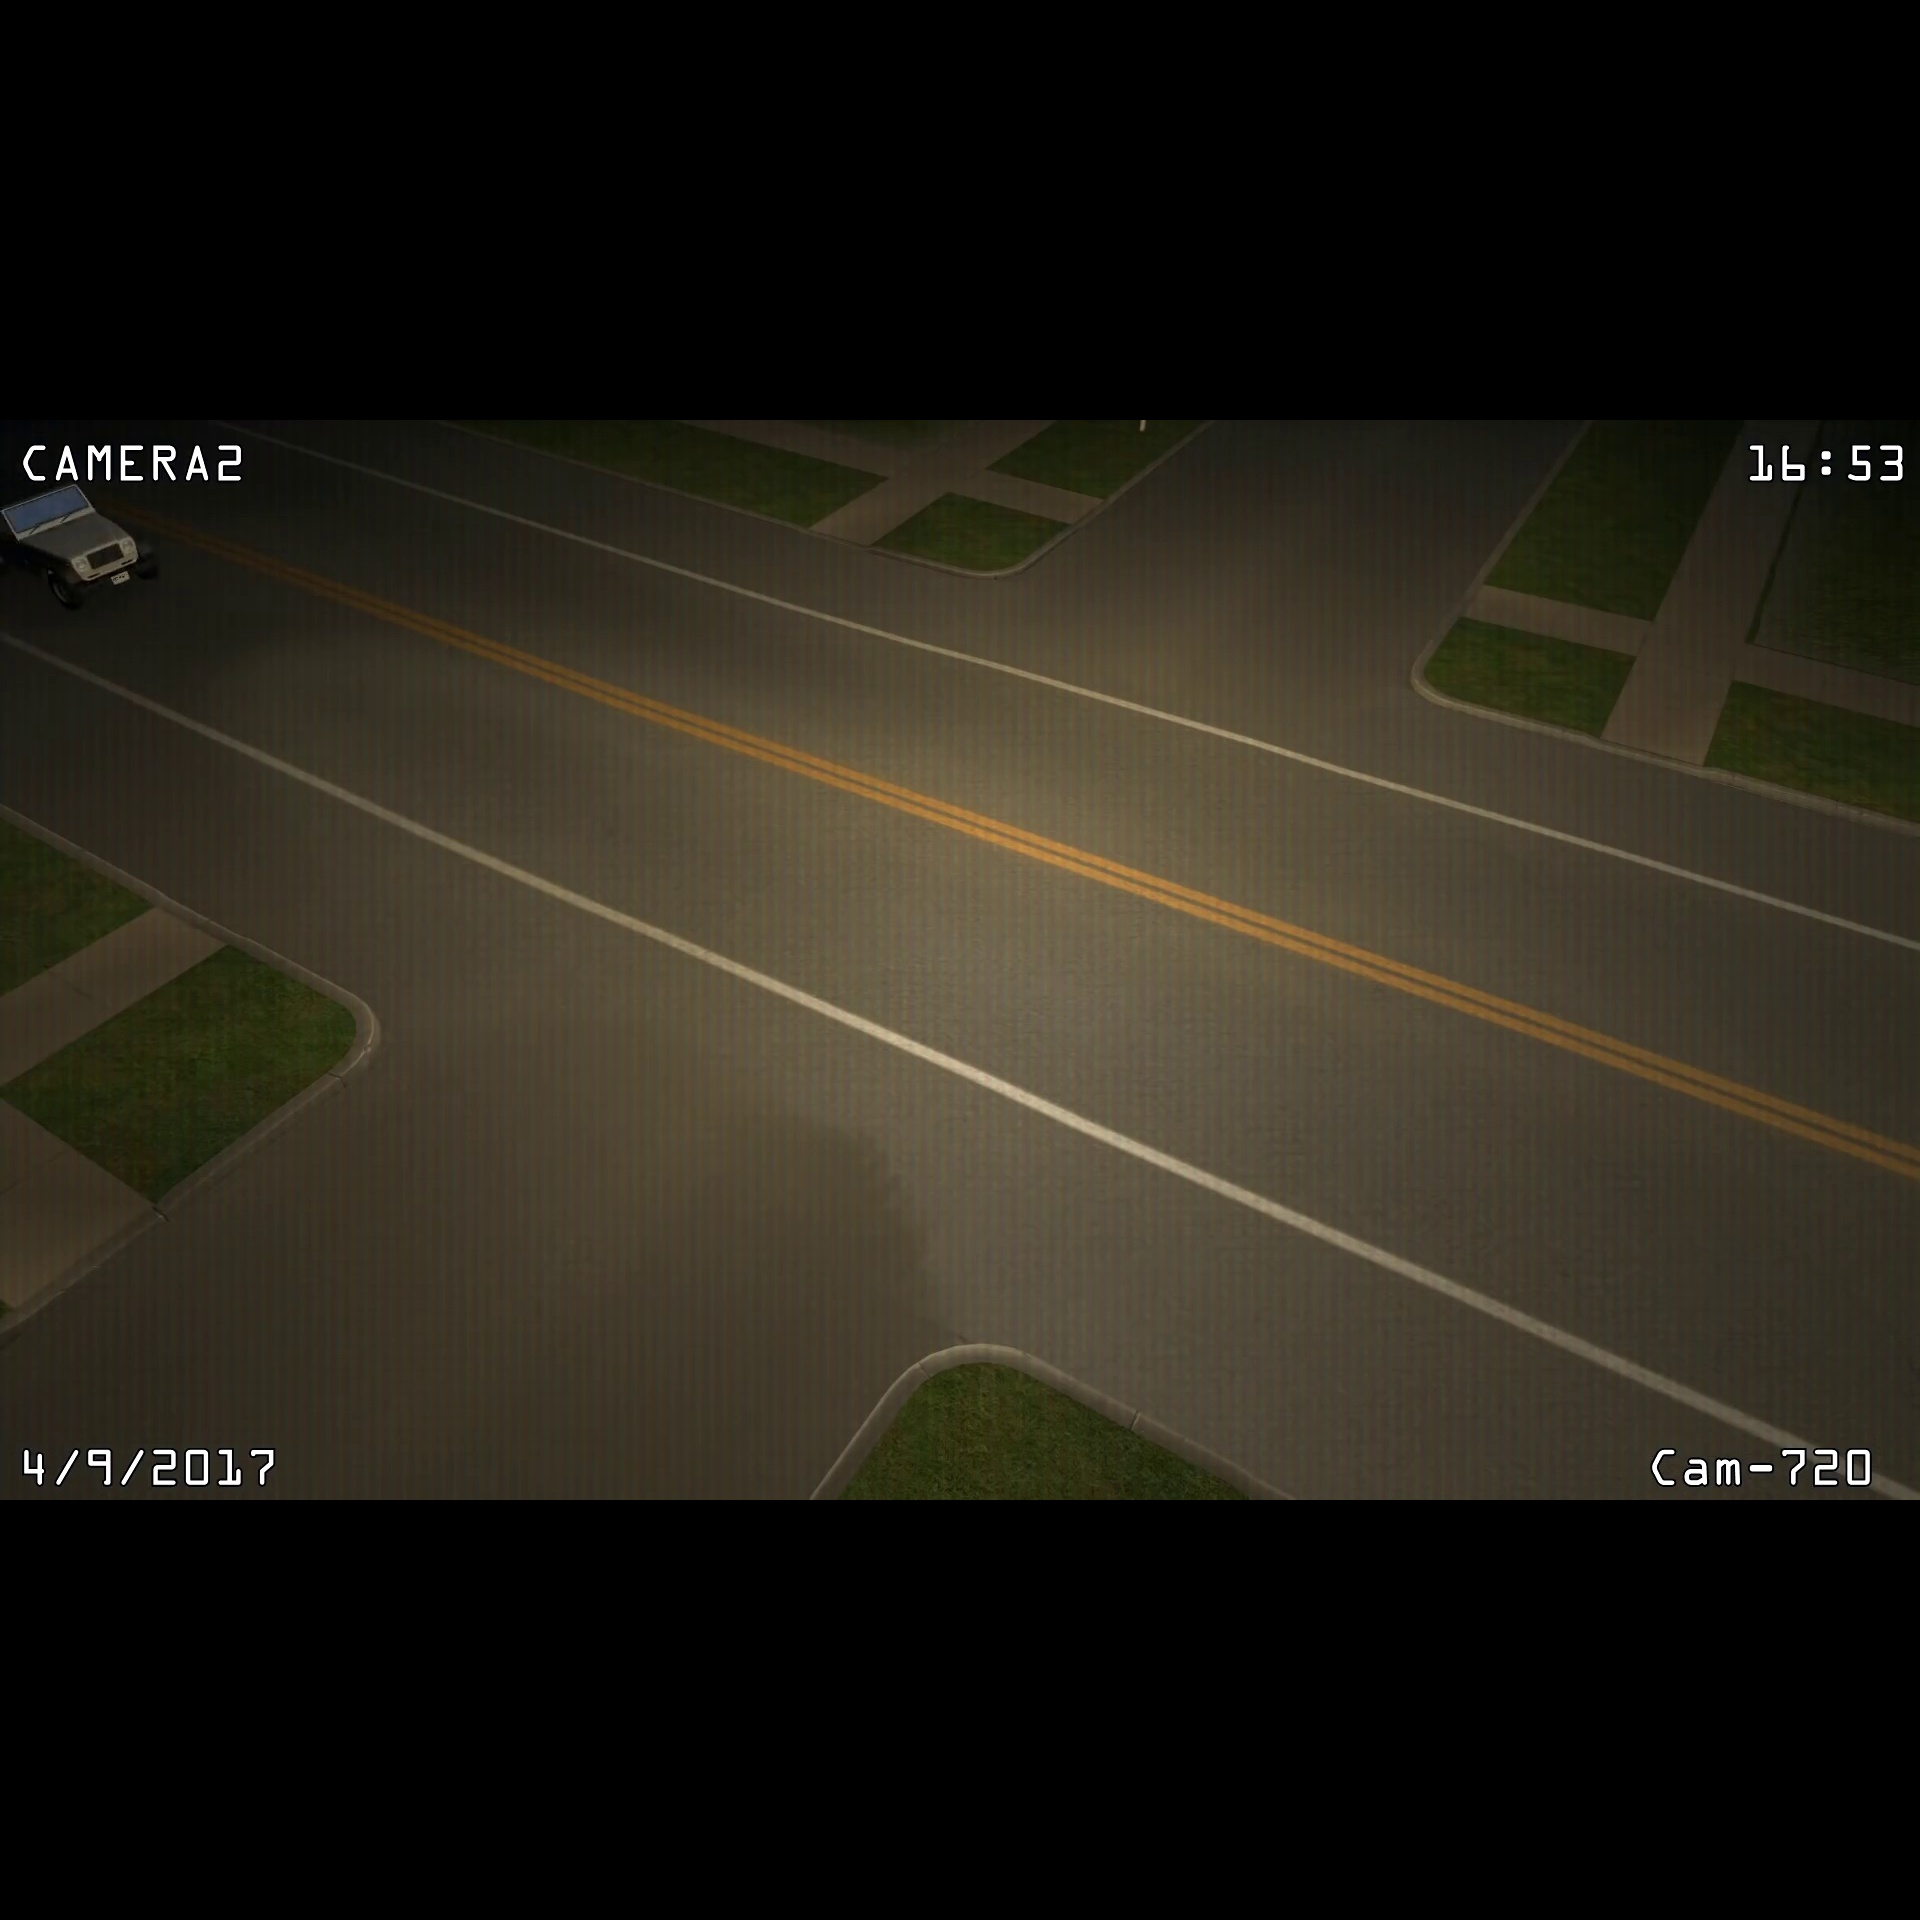vehicle: (2, 471, 164, 615)
